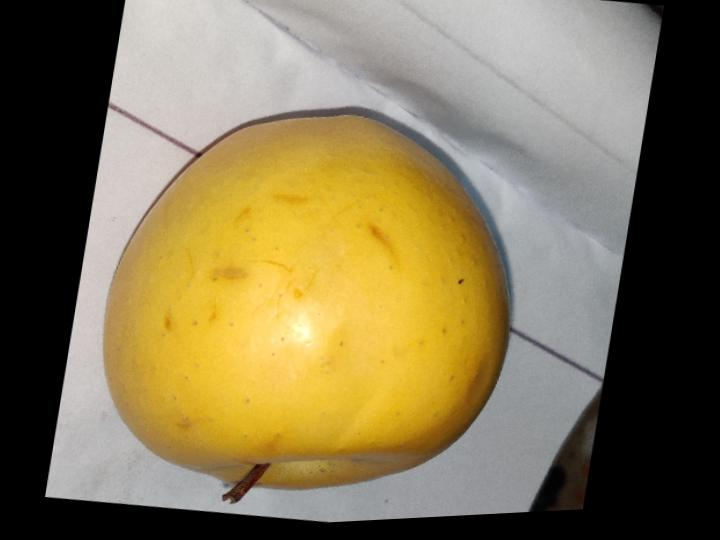apple: (104, 116, 507, 503)
surface_damage: (367, 223, 392, 253), (211, 267, 246, 280), (274, 194, 306, 204), (292, 288, 302, 300)
